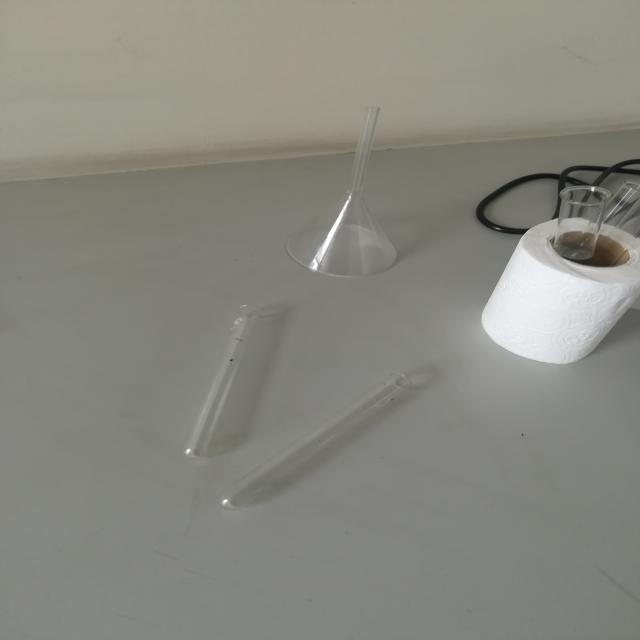Funnel: (274, 63, 428, 304)
Test_Tube: (191, 354, 458, 530), (162, 281, 254, 470)
